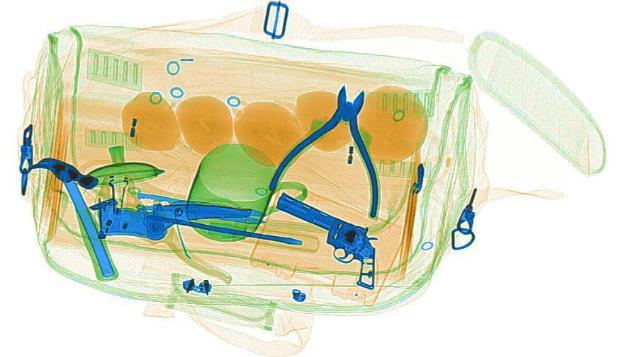Gun: (222, 192, 428, 288)
Pliers: (260, 81, 408, 216)
